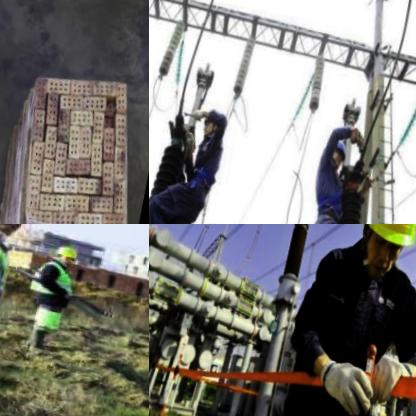helmet: (349, 224, 416, 290), (323, 134, 351, 173), (51, 240, 80, 267)
